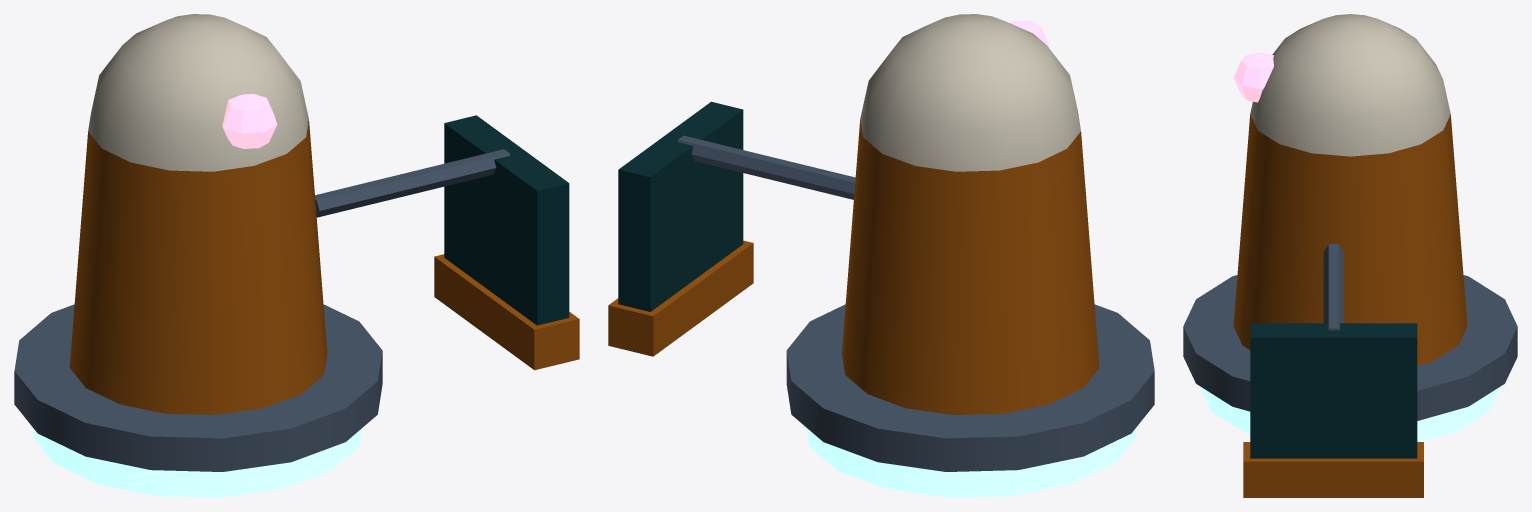
File: robot_sweeper.glb
The picture shows the model from 3 angles, left to right: view 1: azimuth 30°, elevation 25°; view 2: azimuth 150°, elevation 25°; view 3: azimuth 270°, elevation 25°; orthographic projection. The views are drawn at different scales.
Parts seen in each view (by area): view 1: robot_sweeper; view 2: robot_sweeper; view 3: robot_sweeper.
Boxes of the visible parts, box(x1,y1,x2,y2) form: robot_sweeper: box(14, 14, 579, 497); robot_sweeper: box(608, 14, 1154, 497); robot_sweeper: box(1183, 14, 1517, 497).
Bounding box in the file's own units: 1.5 × 1.2 × 1.
